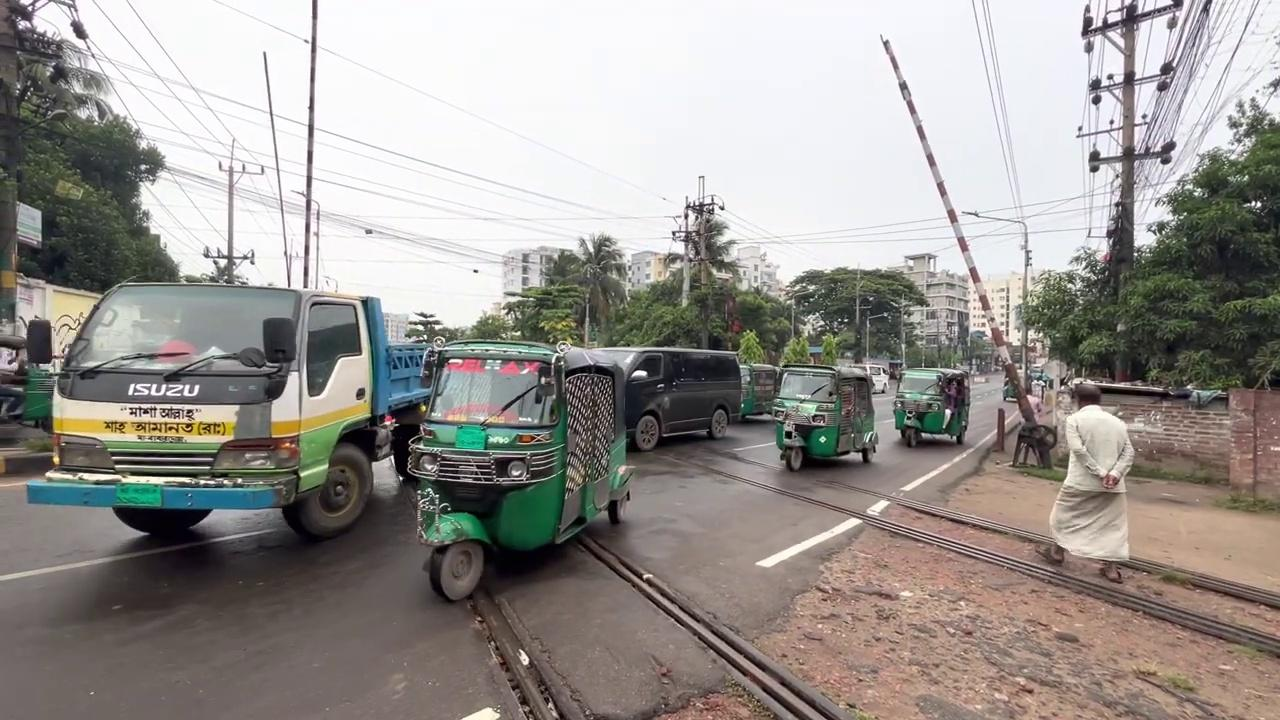Fence: (1043, 382, 1135, 583)
Garbage: (1080, 0, 1183, 382), (959, 208, 1031, 394), (261, 50, 291, 287), (301, 0, 319, 288)
Motorcycle: (653, 445, 1279, 656)
Railroad-crossing: (781, 265, 929, 361), (550, 230, 629, 345)
Rickshaw: (24, 275, 439, 540), (406, 337, 635, 602), (739, 363, 778, 421)
